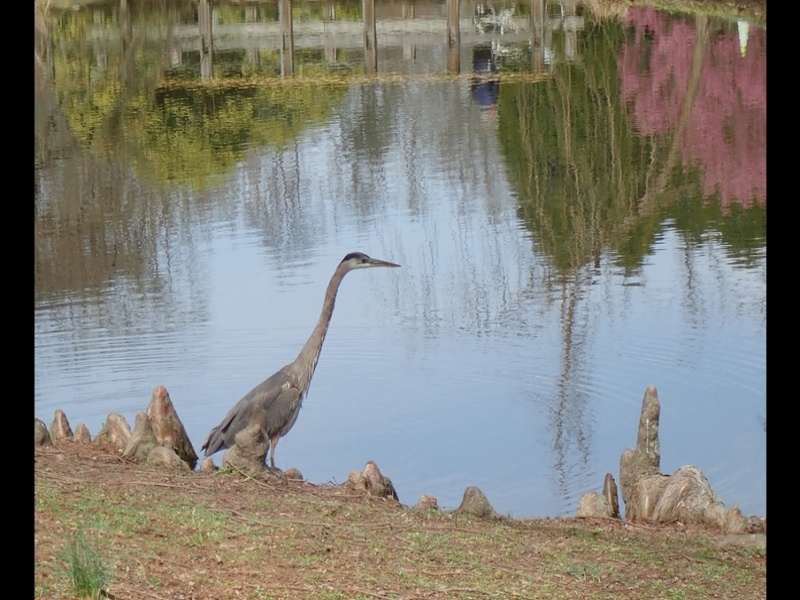heron: (204, 250, 401, 461)
